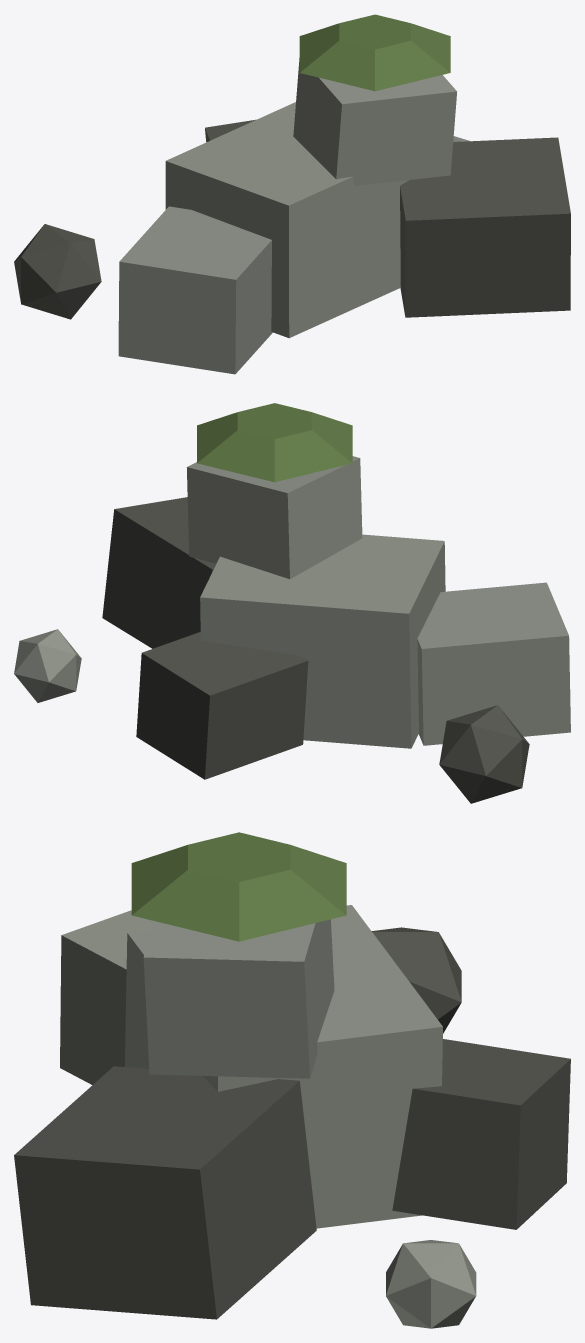
Rendered from rubble.glb.
The picture shows the model from 3 angles, top to bottom: view 1: azimuth 30°, elevation 25°; view 2: azimuth 150°, elevation 25°; view 3: azimuth 270°, elevation 25°; orthographic projection. The views are drawn at different scales.
Visible parts, largest first — view 1: Block0, Block1, Block2, Block4, MossCap, Stone0; view 2: Block0, Block2, Block3, Block4, Block1, MossCap, Stone0, Stone1; view 3: Block1, Block0, Block3, Block4, MossCap, Block2, Stone1, Stone0.
Boxes of the visible parts, x1=… form: Block0: x1=165, y1=102, x2=408, y2=338; Block1: x1=400, y1=137, x2=570, y2=317; Block2: x1=118, y1=206, x2=272, y2=374; Block4: x1=293, y1=58, x2=457, y2=185; MossCap: x1=299, y1=14, x2=450, y2=91; Stone0: x1=14, y1=224, x2=101, y2=319; Block0: x1=200, y1=534, x2=445, y2=748; Block2: x1=417, y1=582, x2=570, y2=745; Block3: x1=136, y1=632, x2=308, y2=779; Block4: x1=186, y1=456, x2=362, y2=579; Block1: x1=102, y1=497, x2=216, y2=648; MossCap: x1=197, y1=403, x2=352, y2=482; Stone0: x1=439, y1=705, x2=529, y2=803; Stone1: x1=14, y1=629, x2=81, y2=702; Block1: x1=14, y1=1066, x2=316, y2=1319; Block0: x1=124, y1=905, x2=442, y2=1228; Block3: x1=392, y1=1039, x2=570, y2=1229; Block4: x1=143, y1=919, x2=334, y2=1078; MossCap: x1=131, y1=832, x2=346, y2=941; Block2: x1=60, y1=910, x2=154, y2=1084; Stone1: x1=386, y1=1240, x2=476, y2=1328; Stone0: x1=371, y1=927, x2=461, y2=1033.
Bounding box in the file's own units: 2.66 × 1.36 × 1.89.
